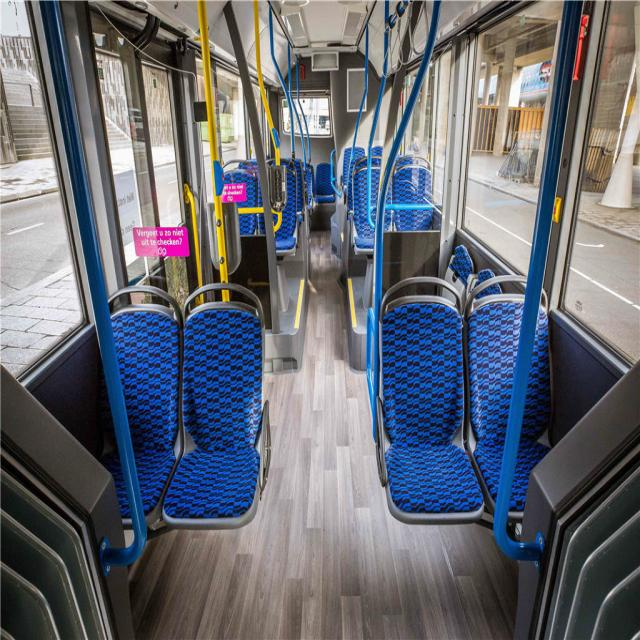empty-seat-frontal: (372, 278, 487, 528), (161, 283, 269, 533)
